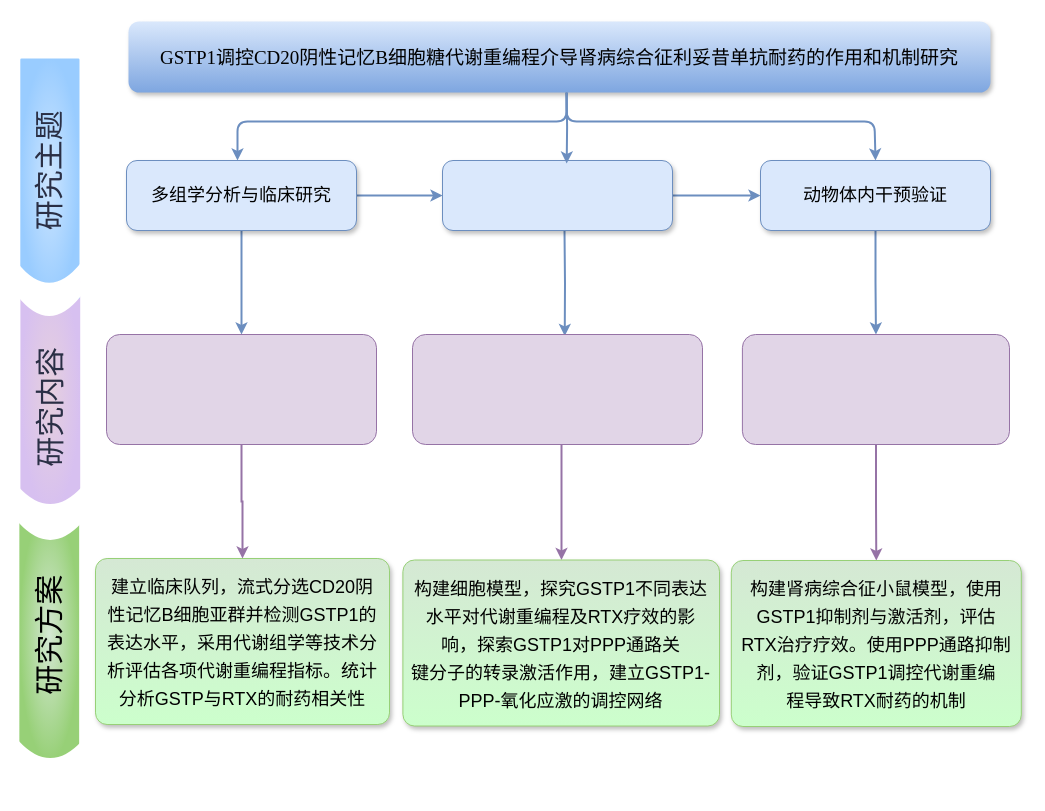
Image size: 1045x811. Some labels were removed from this diagram. Here are the shapes that lost their labels. From the top down, the centre of each, then its label:
At point 558,197: "细胞分子机制研究".
At point 241,389: "建立肾病综合征队列，分析GSTP1与RTX临床应答之间的关联".
At point 557,389: "构建GSTP1敲除/过表达CD20B淋巴细胞模型，检测代谢重编程指标，解析GSTP1在RTX耐药中的作用机制".
At point 875,389: "构建肾病综合征动物模型，验证不同水平GSTP1对RTX治疗疗效的影响以及对代谢重编程的调控作用".
